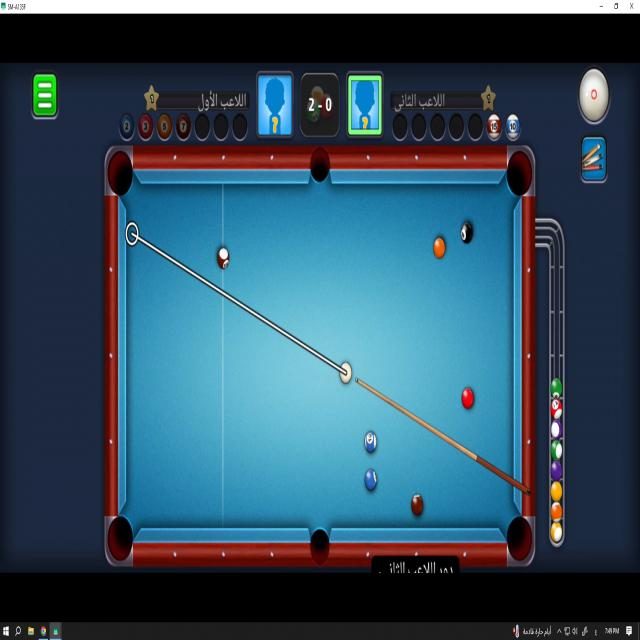object_ball: (365, 469, 376, 490), (461, 223, 472, 243), (340, 363, 351, 383), (365, 432, 376, 452), (462, 388, 473, 408), (412, 495, 423, 515), (218, 248, 228, 269), (434, 238, 444, 258)
white_cue_ball: (340, 363, 351, 383)
